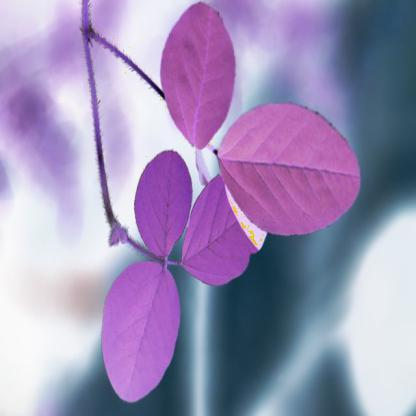Soyabean leaf: (214, 99, 364, 241), (178, 166, 288, 290), (99, 260, 184, 413), (160, 1, 242, 150), (131, 140, 197, 262)
